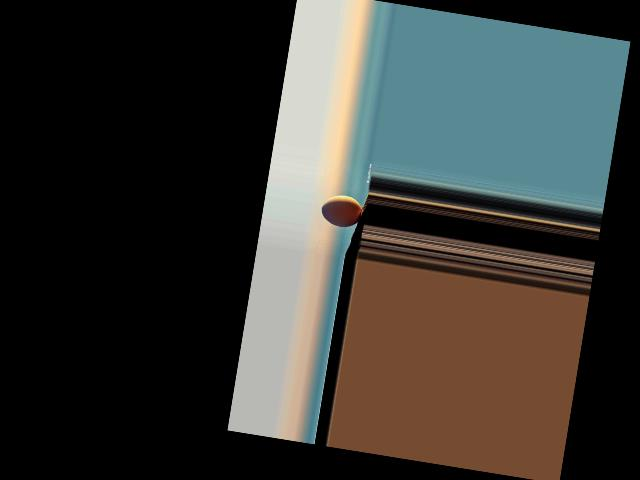egg: (319, 191, 363, 229)
